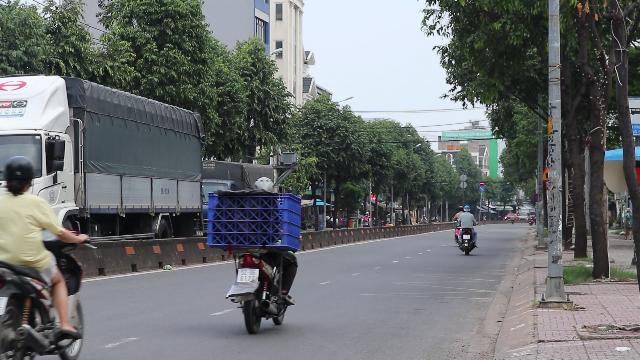helmet: (2, 154, 36, 194), (252, 176, 274, 194)
licenseplate: (236, 268, 258, 282)
motorcyclist: (0, 154, 90, 354), (205, 175, 301, 333)
